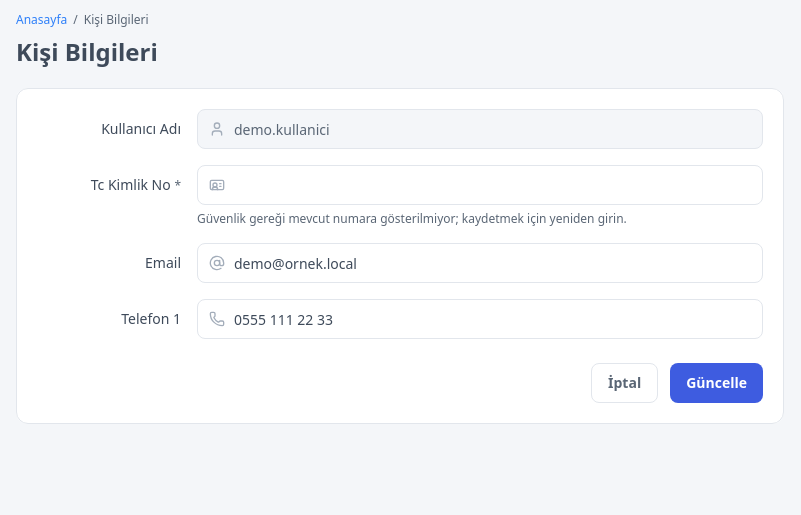
Test: güncelleme › firma PUT düşerse kısmi başarı bildirilir
The width and height of the screenshot is (801, 515).
Expected: the field labelled "Email" is shown, x1=197 y1=243 x2=763 y2=283
Type "12345678950" into the field labelled "Tc Kimlik No *".
click(480, 185); type("12345678950")  # box x1=197 y1=165 x2=763 y2=205
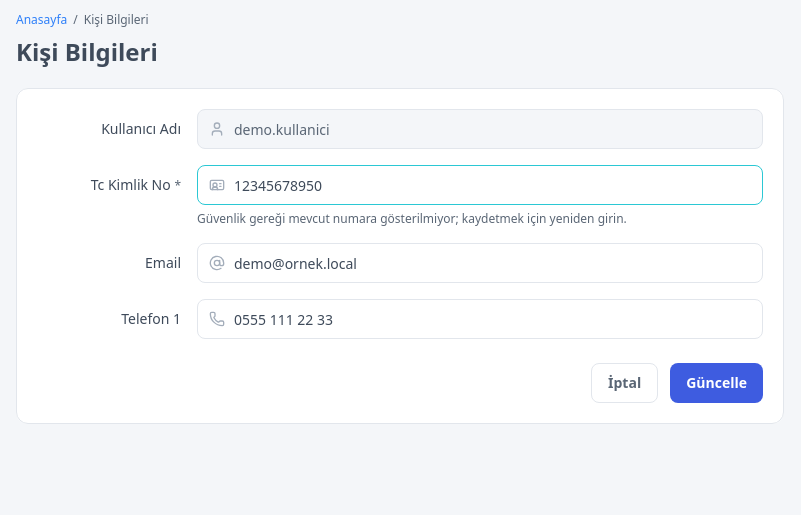
Click the button "Güncelle".
click(717, 383)  # box x1=670 y1=363 x2=763 y2=403
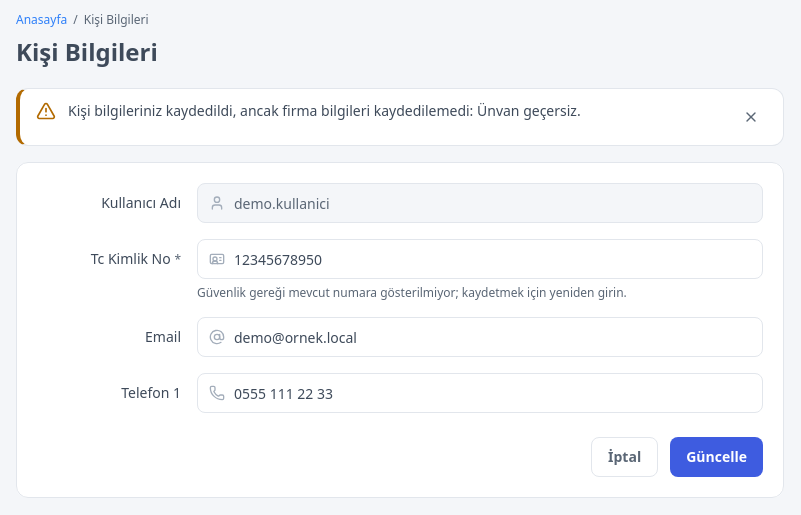
Now the message shows "Kişi bilgileriniz kaydedildi", box x1=68 y1=101 x2=581 y2=120
Now the message shows "Ünvan geçersiz.", box x1=68 y1=101 x2=581 y2=120
